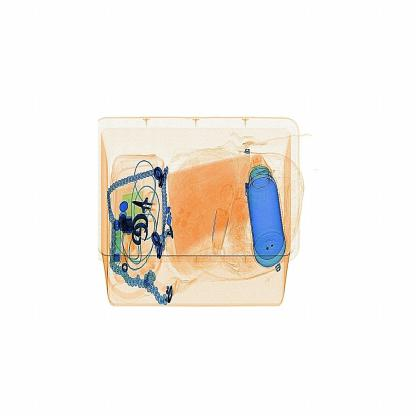gun: (128, 187, 164, 226)
